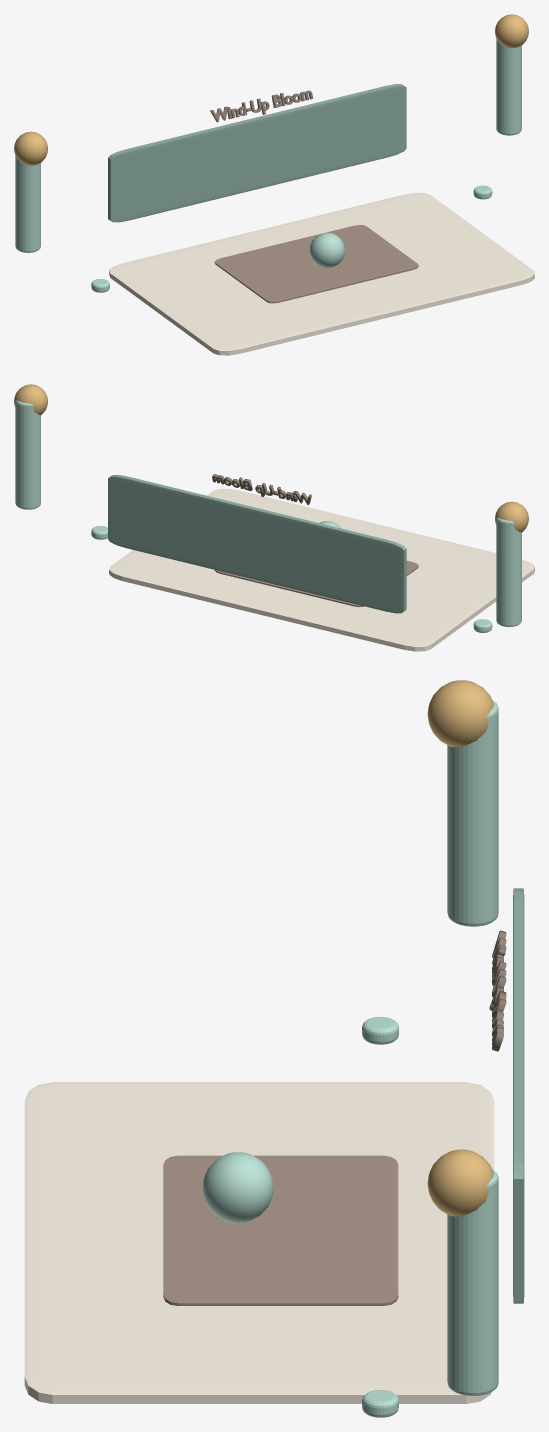
The model's file is 05_animations.glb.
3 views of the same model, one above another, from view 1: azimuth 30°, elevation 25°; view 2: azimuth 150°, elevation 25°; view 3: azimuth 270°, elevation 25° (orthographic). The views are drawn at different scales.
Visible parts, largest first — view 1: PaperFloor-col, BackCard, StageMat, PaperLantern, PaperLantern.001, TitleLabel, BloomBud, LanternGlow, LanternGlow.001; view 2: BackCard, PaperFloor-col, PaperLantern.001, PaperLantern, TitleLabel, LanternGlow, LanternGlow.001, StageMat; view 3: PaperFloor-col, StageMat, PaperLantern, PaperLantern.001, BackCard, BloomBud, LanternGlow.001, LanternGlow, TitleLabel, CardConfetti, CardConfetti.001.
Boxes of the visible parts, x1,y1,x2,y2 form: PaperFloor-col: (109, 193, 534, 355); BackCard: (108, 84, 406, 222); StageMat: (214, 225, 418, 303); PaperLantern: (15, 155, 40, 252); PaperLantern.001: (496, 38, 521, 135); TitleLabel: (210, 90, 313, 122); BloomBud: (309, 232, 345, 267); LanternGlow: (14, 131, 47, 165); LanternGlow.001: (495, 14, 528, 48); BackCard: (108, 475, 406, 613); PaperFloor-col: (109, 489, 534, 651); PaperLantern.001: (15, 400, 40, 509); PaperLantern: (496, 518, 521, 626); TitleLabel: (212, 474, 312, 505); LanternGlow: (495, 501, 528, 532); LanternGlow.001: (14, 384, 47, 415); StageMat: (214, 560, 418, 607); PaperFloor-col: (24, 1082, 494, 1403); StageMat: (163, 1155, 398, 1305); PaperLantern: (447, 700, 498, 926); PaperLantern.001: (447, 1169, 498, 1395); BackCard: (513, 888, 524, 1303); BloomBud: (202, 1152, 273, 1222); LanternGlow.001: (427, 1149, 493, 1216); LanternGlow: (427, 680, 493, 747); TitleLabel: (489, 930, 506, 1051); CardConfetti: (362, 1017, 398, 1044); CardConfetti.001: (362, 1390, 398, 1417).
Size of the model in its own units: 8.28 by 2.56 by 3.51.
